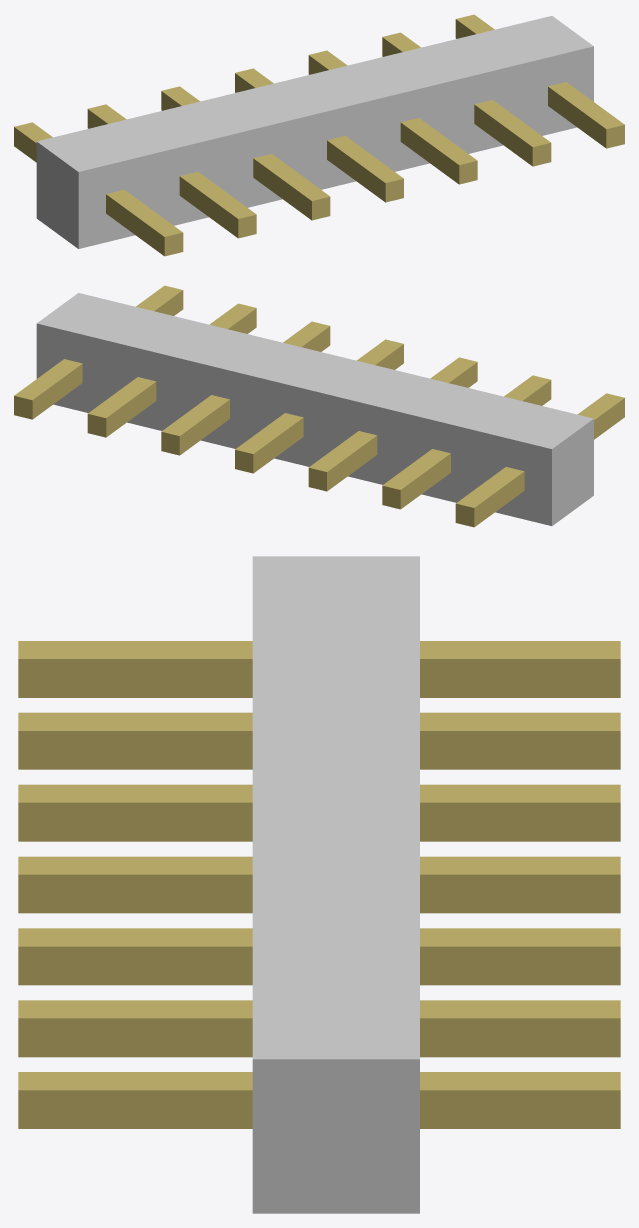
The model's file is pin_header_254_7pin.glb.
3 renders of one model, top to bottom at view 1: azimuth 30°, elevation 25°; view 2: azimuth 150°, elevation 25°; view 3: azimuth 270°, elevation 25°, orthographic. The views are drawn at different scales.
Parts seen in each view (by area): view 1: world; view 2: world; view 3: world.
Boxes of the visible parts, <box> form: world: <box>14,14,624,256</box>; world: <box>14,285,624,527</box>; world: <box>18,556,620,1213</box>.
Bounding box in the file's own units: 17.78 × 2.54 × 9.
